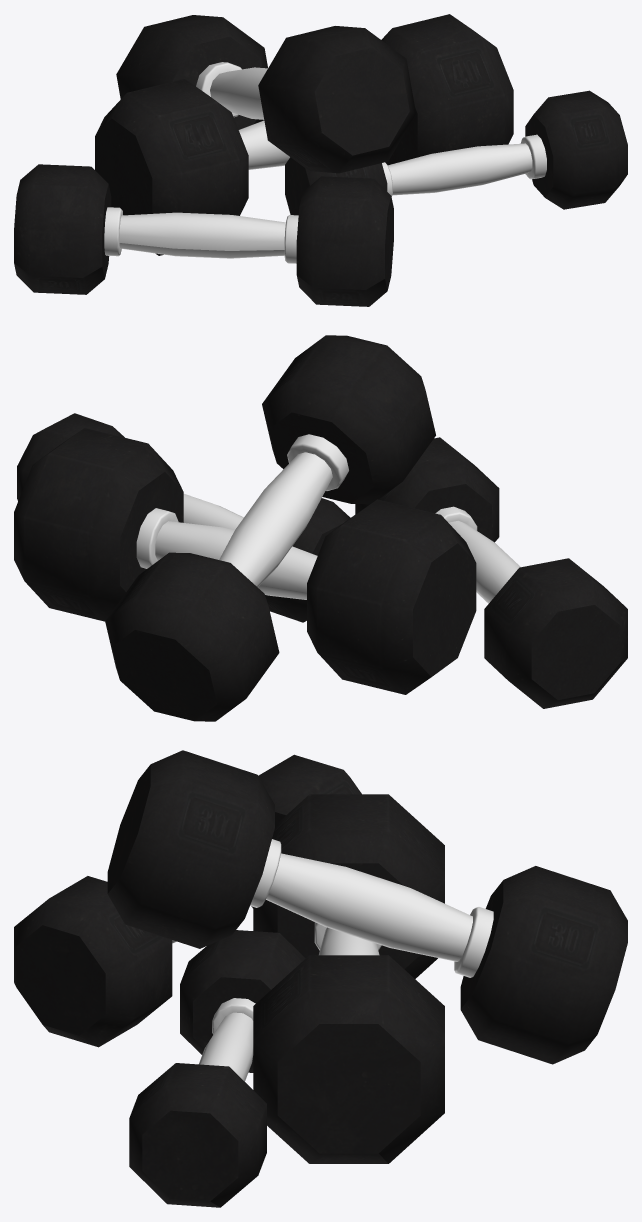
File: gym_weights_-_game_asset.glb
3 renders of one model, top to bottom at view 1: azimuth 30°, elevation 25°; view 2: azimuth 150°, elevation 25°; view 3: azimuth 270°, elevation 25°, orthographic. The views are drawn at different scales.
Visible parts, largest first — view 1: GymWeights; view 2: GymWeights; view 3: GymWeights.
Part boxes in pixels (x1=…): GymWeights: x1=14, y1=14, x2=627, y2=306; GymWeights: x1=14, y1=335, x2=627, y2=721; GymWeights: x1=14, y1=750, x2=627, y2=1207.
Size of the model in its own units: 93.56 by 36.15 by 70.66.
Materials: 1 (1 with a texture image).
